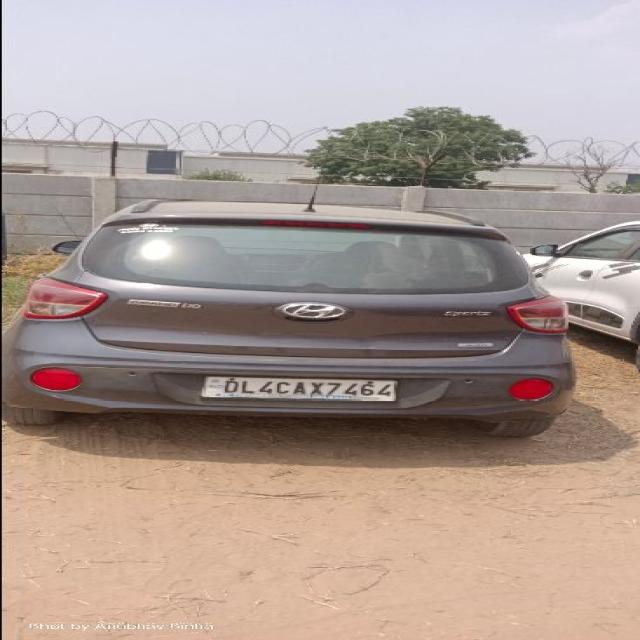license_plate: (198, 375, 398, 402)
